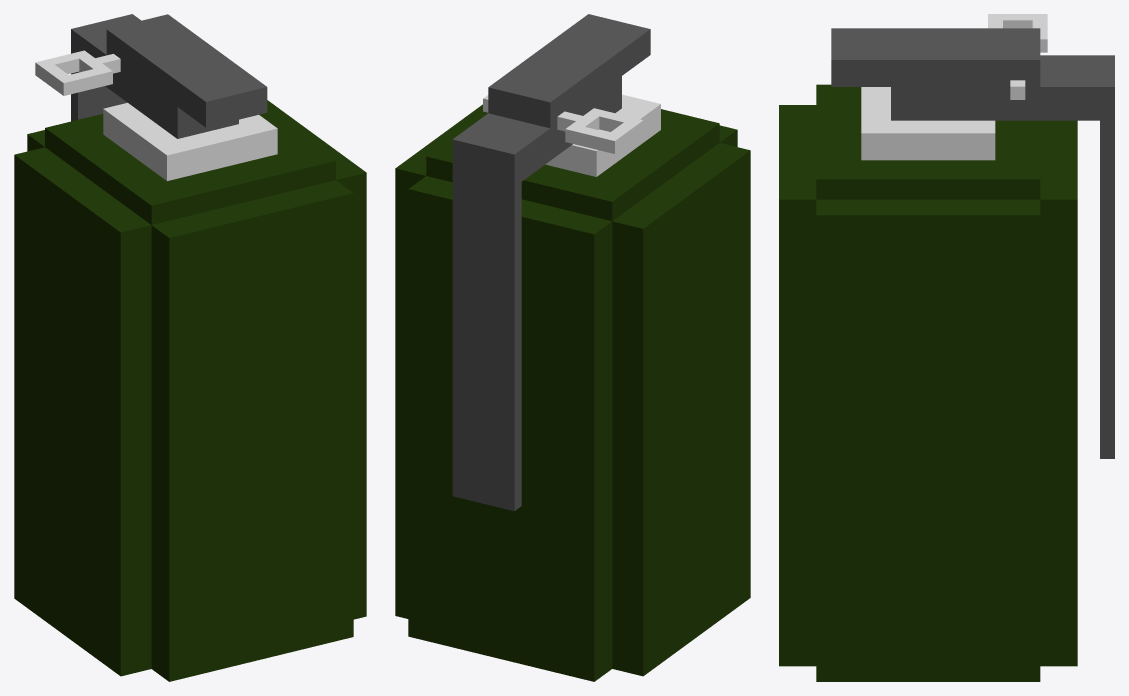
The model's file is molotov.fbx.
3 renders of one model, left to right at view 1: azimuth 30°, elevation 25°; view 2: azimuth 150°, elevation 25°; view 3: azimuth 270°, elevation 25°, orthographic. The views are drawn at different scales.
Visible parts, largest first — view 1: smokeGranade_base, smokeGranade_fuse, smokeGranade_pin; view 2: smokeGranade_base, smokeGranade_fuse, smokeGranade_pin; view 3: smokeGranade_base, smokeGranade_fuse, smokeGranade_pin.
Boxes of the visible parts, x1,y1,x2,y2 form: smokeGranade_base: [14, 100, 366, 681]; smokeGranade_fuse: [71, 14, 267, 138]; smokeGranade_pin: [35, 50, 120, 95]; smokeGranade_base: [395, 94, 750, 681]; smokeGranade_fuse: [452, 14, 650, 511]; smokeGranade_pin: [483, 95, 643, 153]; smokeGranade_base: [779, 84, 1077, 681]; smokeGranade_fuse: [831, 28, 1114, 458]; smokeGranade_pin: [988, 14, 1047, 99].
Bounding box in the file's own units: 80 × 170 × 90.
